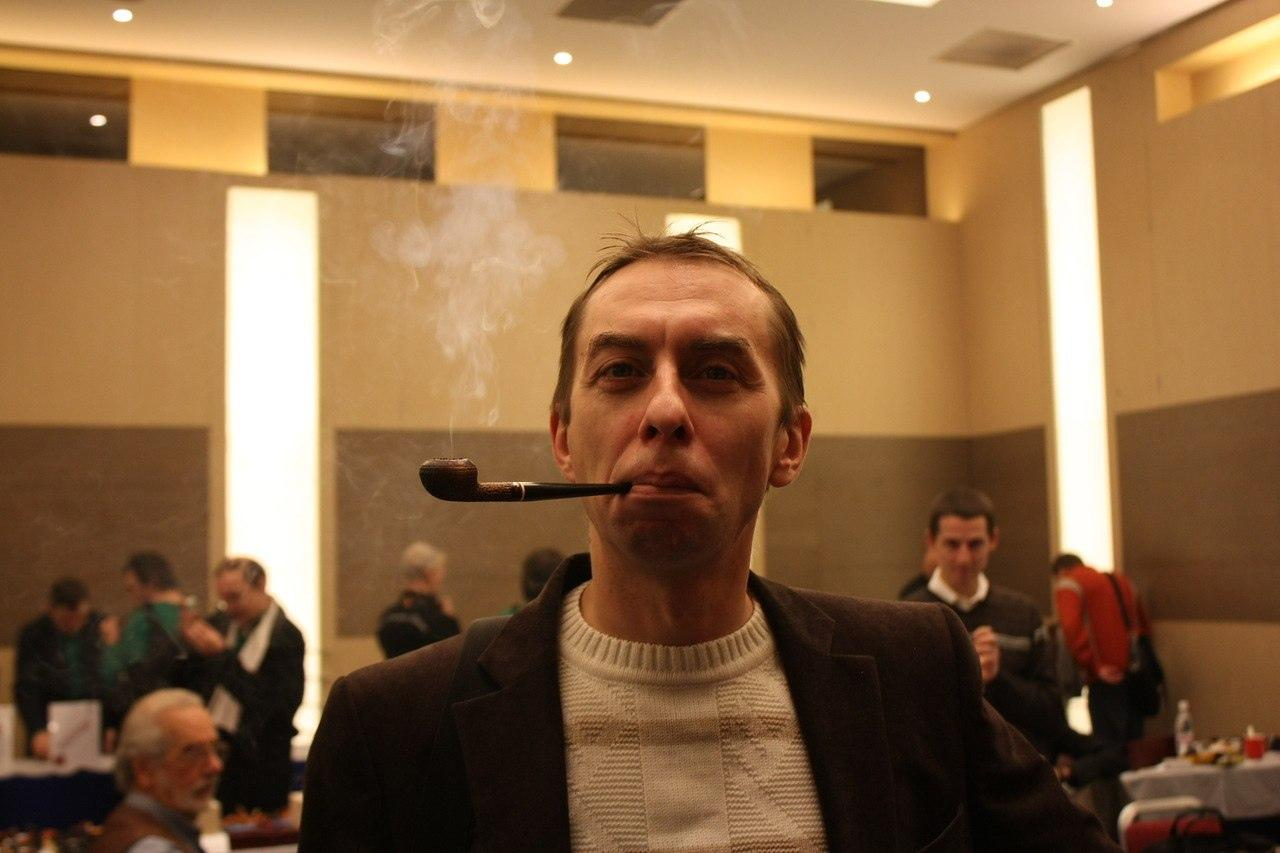trubka: (419, 458, 633, 502)
